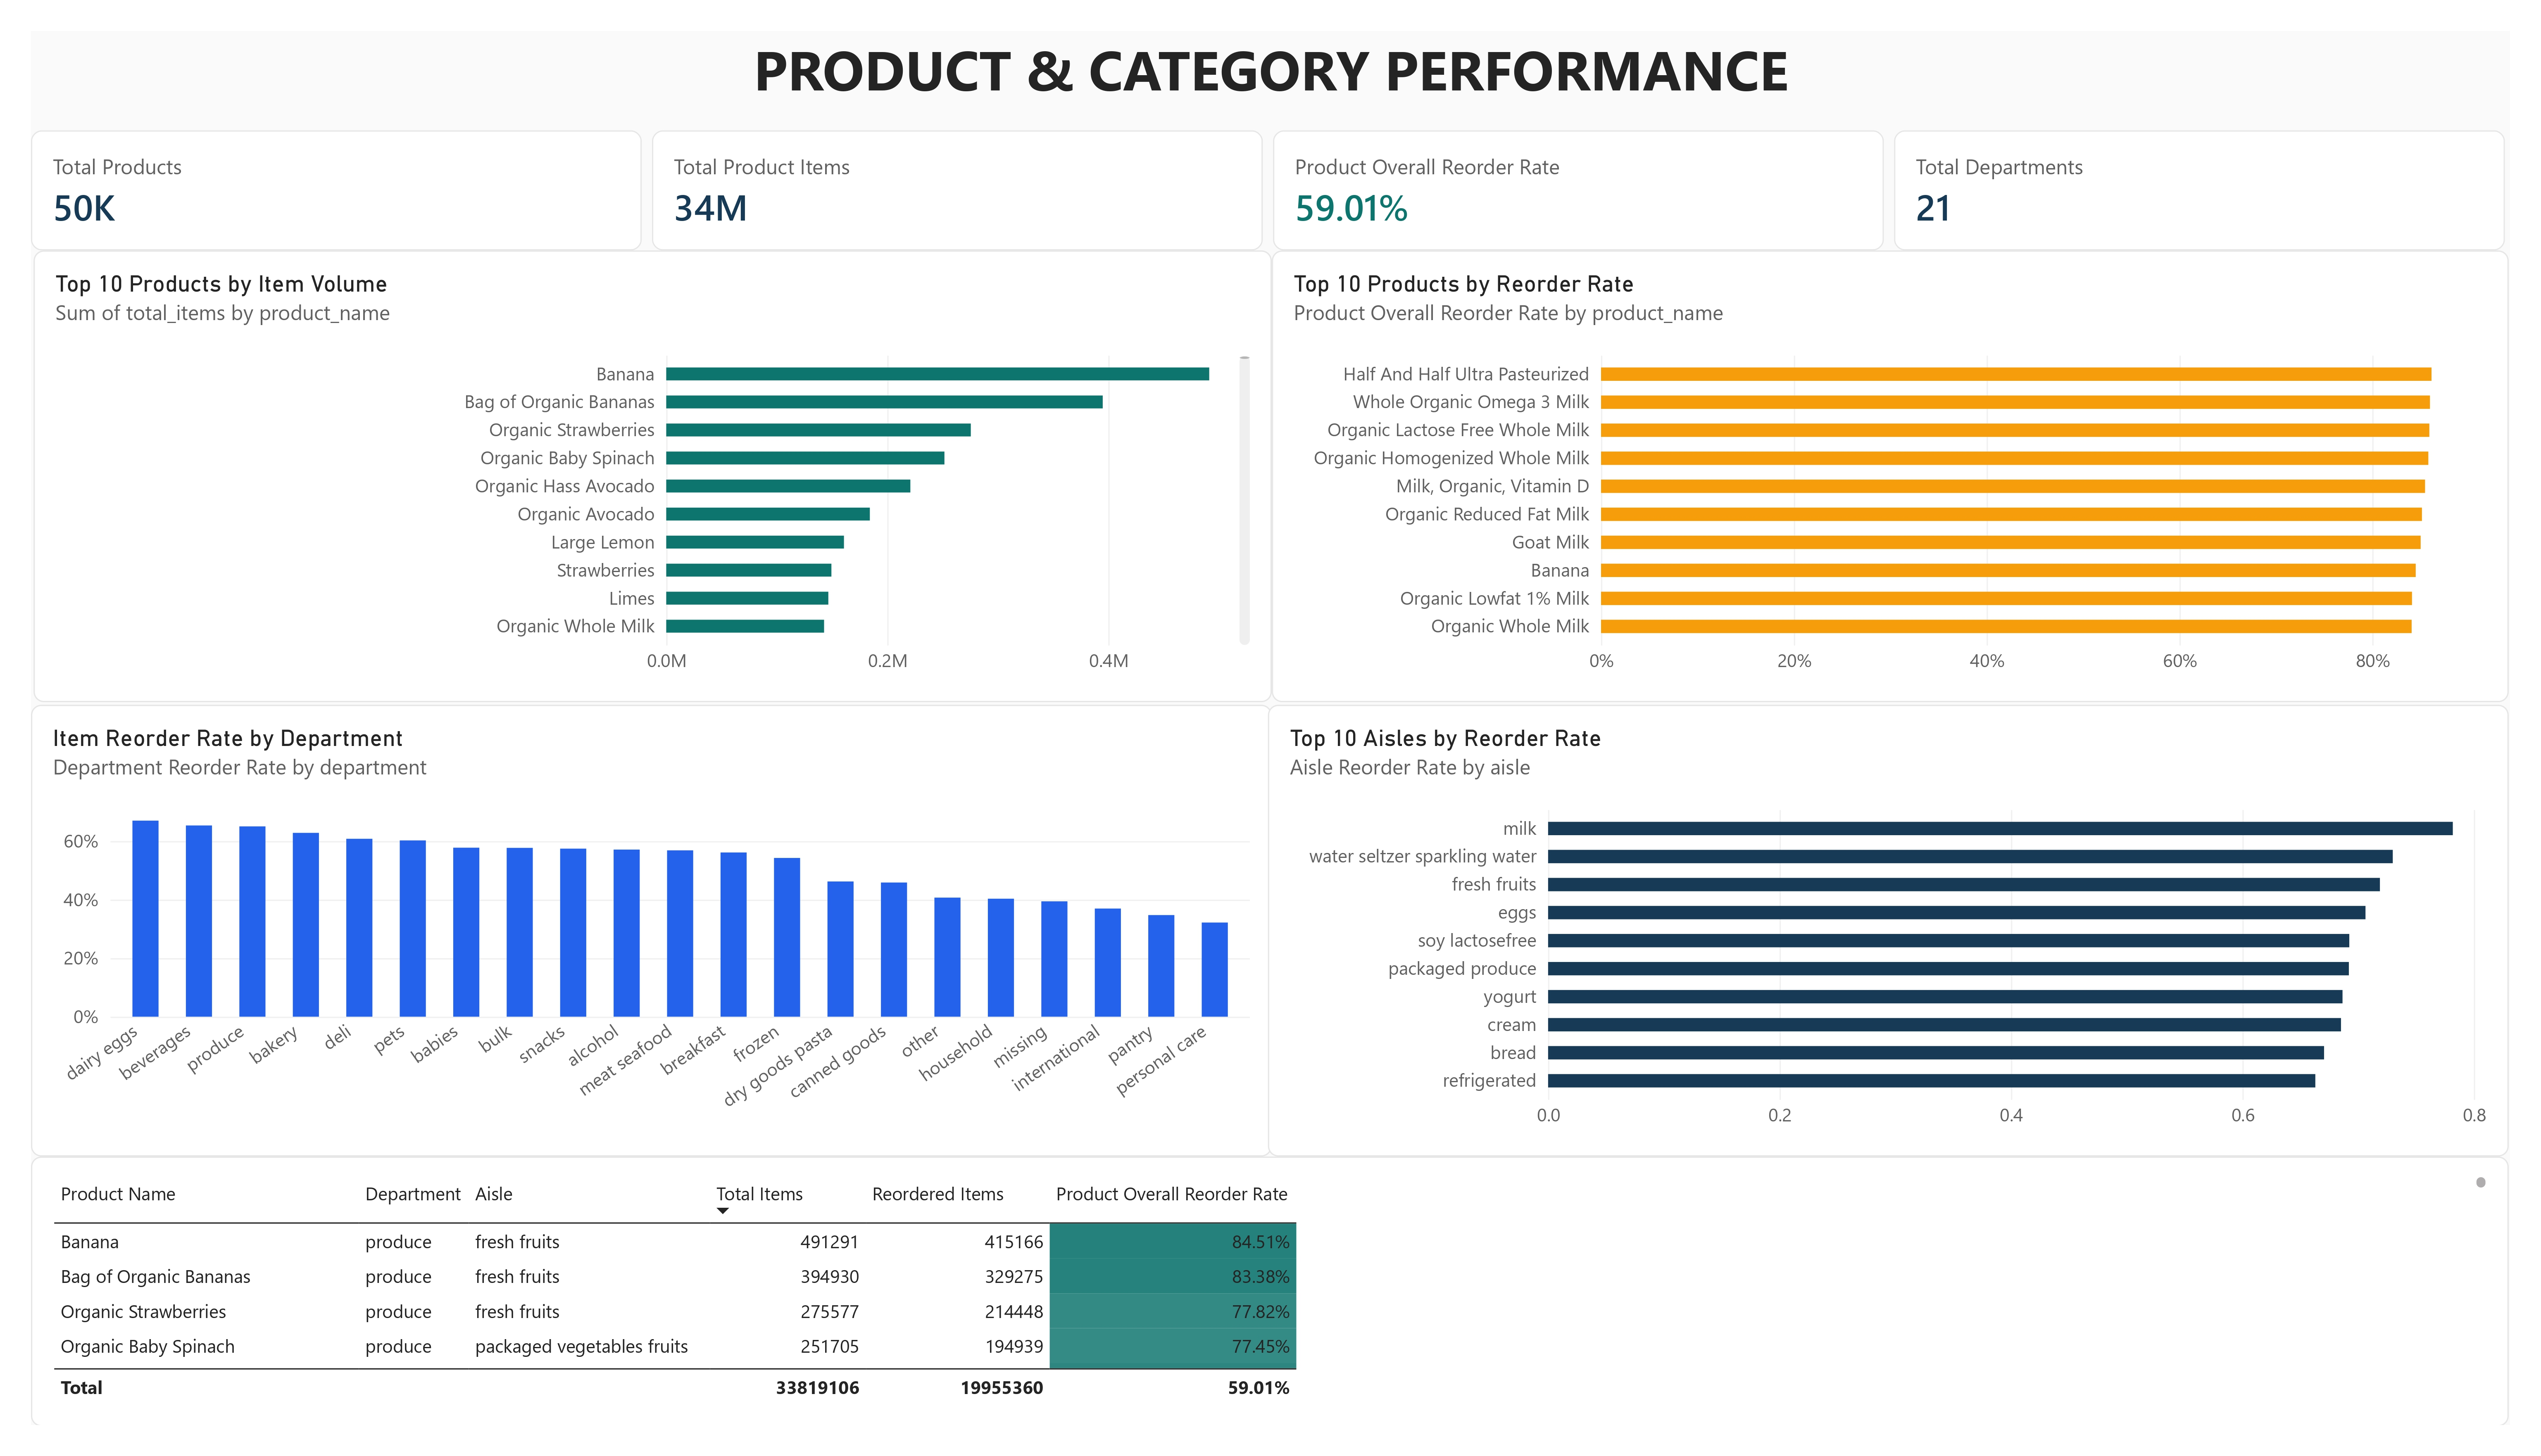

Layout of this report page (visuals, bound fields, positions):
{"tool":"powerbi","page":{"name":"Product & Category Performance","canvas":[1920,1080],"ordinal":2},"visuals":[{"type":"cardVisual","fields":{"Data":["AislePerformance.Total Products","AislePerformance.Total Product Items","AislePerformance.Product Overall Reorder Rate","AislePerformance.Total Departments"]},"box":[0,77.2,1919.3,93.1],"z":0},{"type":"clusteredBarChart","title":"Top 10 Products by Item Volume","fields":{"Category":["ProductPerformance.product_name"],"Y":["Sum(ProductPerformance.total_items)"]},"box":[2.3,170.3,958.5,350],"z":1000},{"type":"clusteredBarChart","title":"Top 10 Products by Reorder Rate","fields":{"Category":["ProductPerformance.product_name"],"Y":["AislePerformance.Product Overall Reorder Rate"]},"box":[960.8,170.3,958.5,350],"z":2000},{"type":"clusteredColumnChart","title":"Item Reorder Rate by Department","fields":{"Category":["DepartmentPerformance.department"],"Y":["AislePerformance.Department Reorder Rate"]},"box":[0,522.4,960.8,350],"z":3000},{"type":"barChart","title":"Top 10 Aisles by Reorder Rate","fields":{"Category":["AislePerformance.aisle"],"Y":["AislePerformance.Aisle Reorder Rate"]},"box":[958.5,522.4,960.8,350],"z":4000},{"type":"tableEx","fields":{"Values":["ProductPerformance.product_name","ProductPerformance.department","ProductPerformance.aisle","Sum(ProductPerformance.total_items)","Sum(ProductPerformance.reordered_items)","AislePerformance.Product Overall Reorder Rate"]},"box":[0,872.2,1919.3,209],"z":5000},{"type":"textbox","box":[2.3,0,1917,77.2],"z":6000}]}

Visuals, with their boxes on the page's 1920x1080 design canvas (x1, y1, x2, y2). These are canvas units, not pixel positions in the 2541x1456 screenshot, which may show the page scaled, cropped or inside an application window:
cardVisual - AislePerformance.Total Products x AislePerformance.Total Product Items: [0,77,1919,170]
"Top 10 Products by Item Volume" clusteredBarChart: [2,170,961,520]
"Top 10 Products by Reorder Rate" clusteredBarChart: [961,170,1919,520]
"Item Reorder Rate by Department" clusteredColumnChart: [0,522,961,872]
"Top 10 Aisles by Reorder Rate" barChart: [958,522,1919,872]
tableEx - ProductPerformance.product_name x ProductPerformance.department: [0,872,1919,1081]
textbox: [2,0,1919,77]
